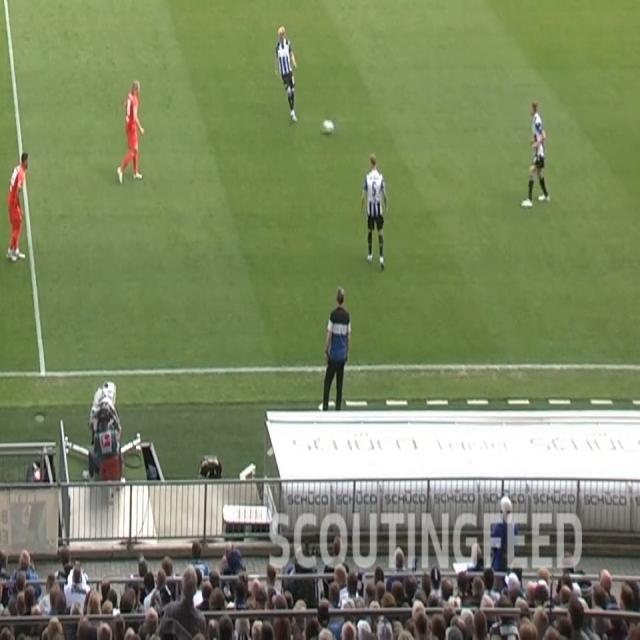ball: (321, 116, 335, 137)
